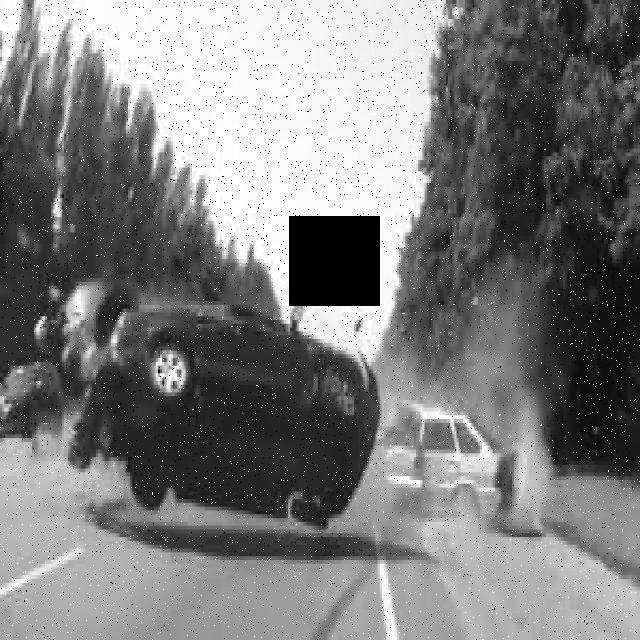accident: (67, 288, 387, 543)
vehicle: (395, 401, 520, 526), (1, 355, 65, 451)
